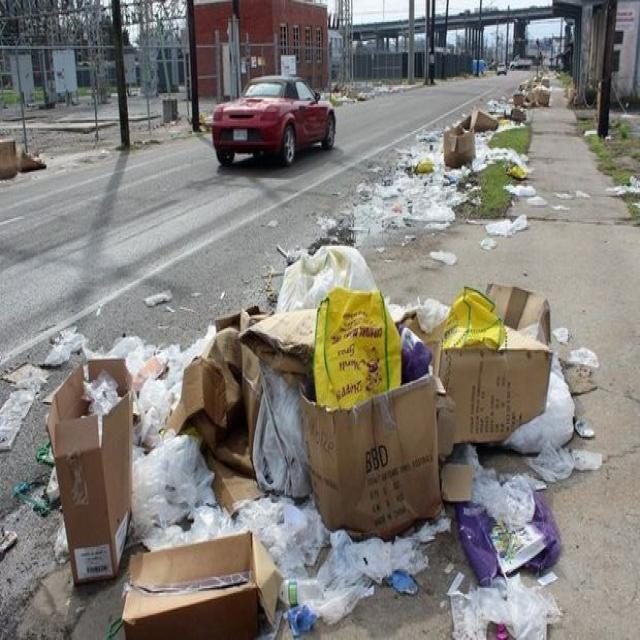garbage: (0, 63, 640, 640)
